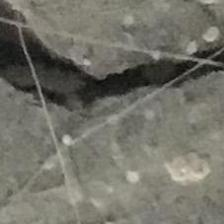Crack: (0, 1, 222, 224)
